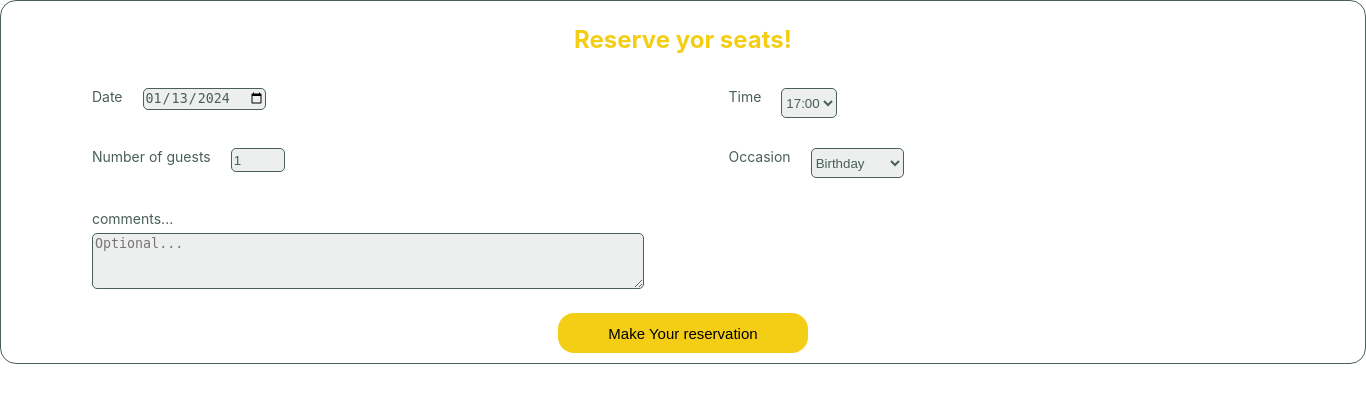
Test case: Booking form › should display an error message and disable sumbit button when number of     guests field's value is empty
Clear the number field labelled "Number of guests" at (258, 160), box [231, 148, 285, 172]
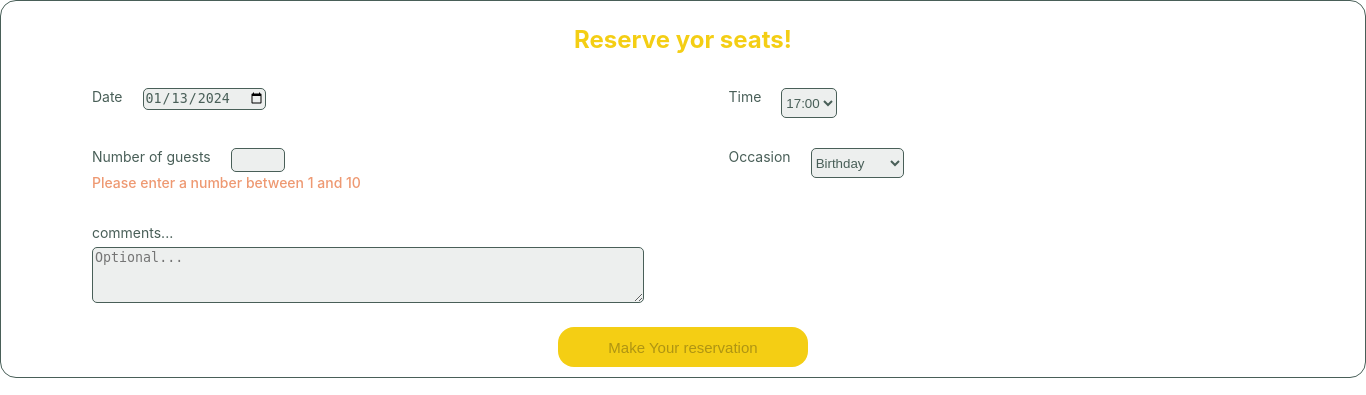
Check: the text "Please enter a number between 1 and 10" is shown, box [92, 174, 361, 191]
Check: the button is disabled, box [558, 327, 808, 367]
